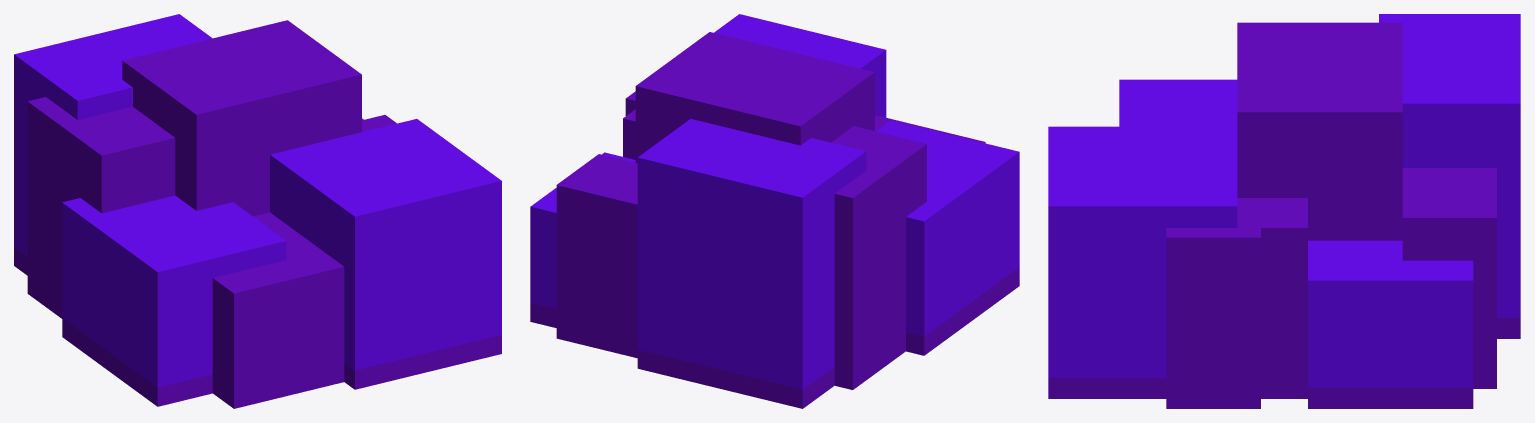
File: Rock5.dae
3 views of the same model, side by side, from view 1: azimuth 30°, elevation 25°; view 2: azimuth 150°, elevation 25°; view 3: azimuth 270°, elevation 25° (orthographic). The views are drawn at different scales.
Visible parts, largest first — view 1: Rock5; view 2: Rock5; view 3: Rock5.
Part boxes in pixels (<box>): Rock5: <box>14,14,501,408</box>; Rock5: <box>530,14,1019,408</box>; Rock5: <box>1048,14,1520,408</box>.
Bounding box in the file's own units: 1.8 × 1.2 × 2.
1 material, 1 textured.
